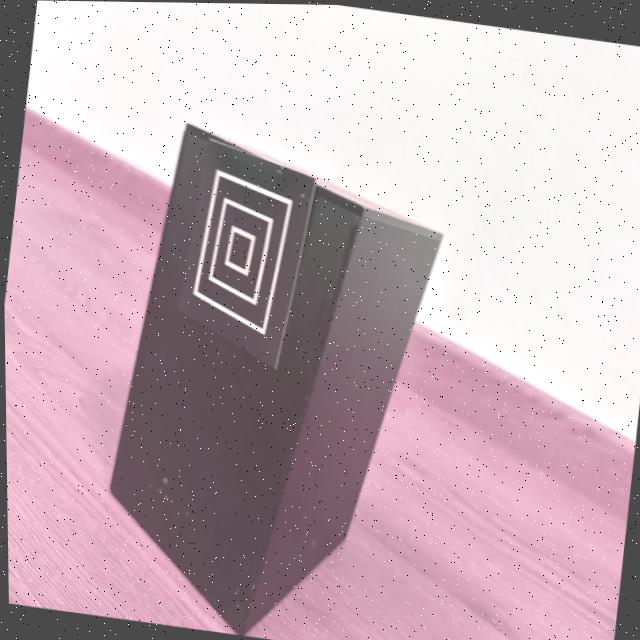BULLSEYE: (173, 137, 316, 370)
